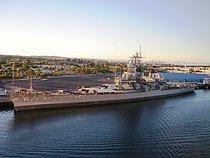MIL_Ship: (9, 44, 197, 113)
